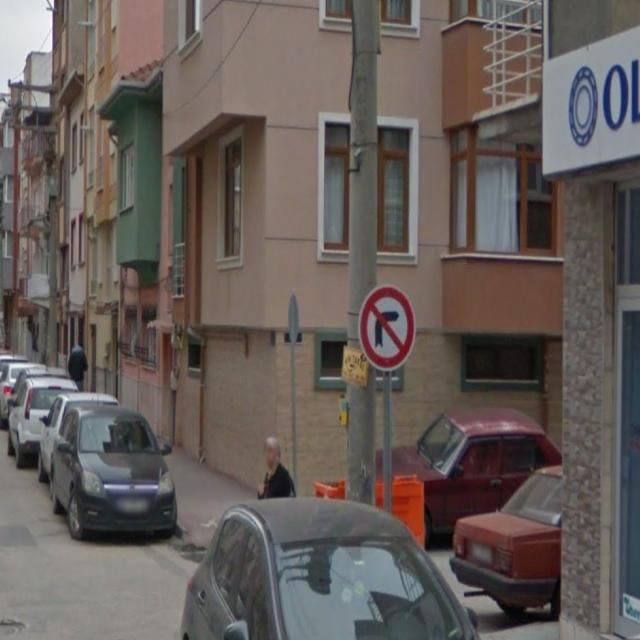sagadonulmez: (358, 284, 415, 370)
